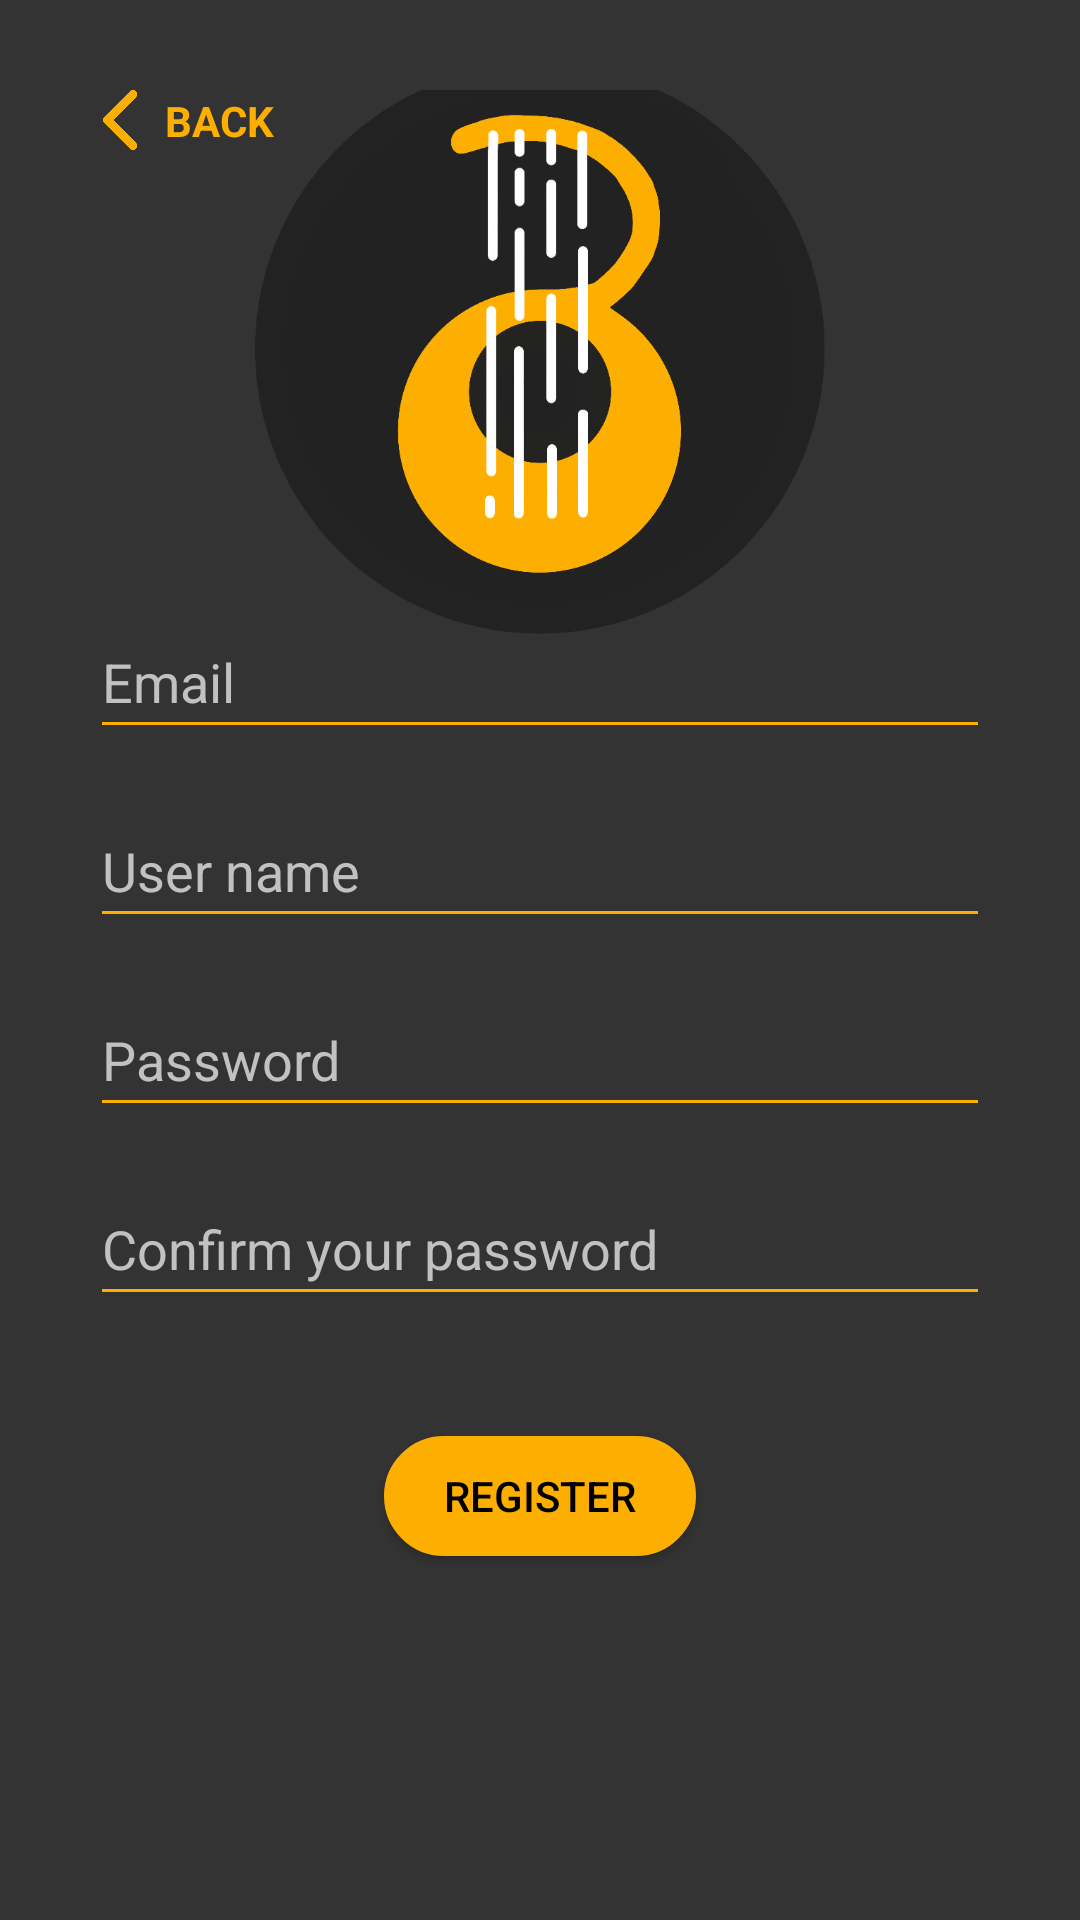

Screen size 1080 × 1920. Icon name, then its box in pixels as (x1, y1, x2, y2):
left arrow: (103, 90, 137, 150)
